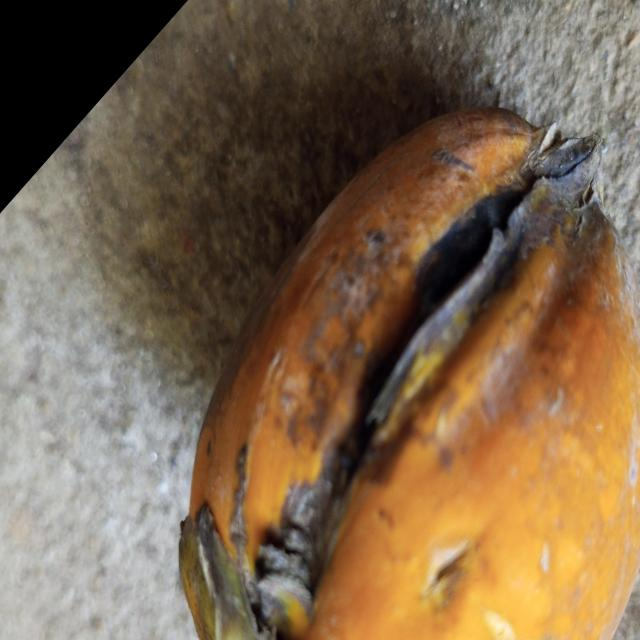damaged: (180, 108, 640, 640)
